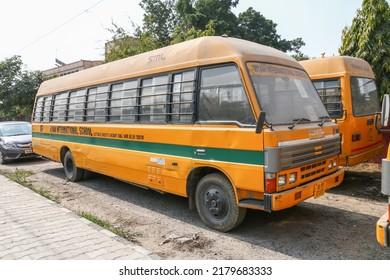bus: (31, 35, 343, 233)
car: (1, 120, 41, 164)
